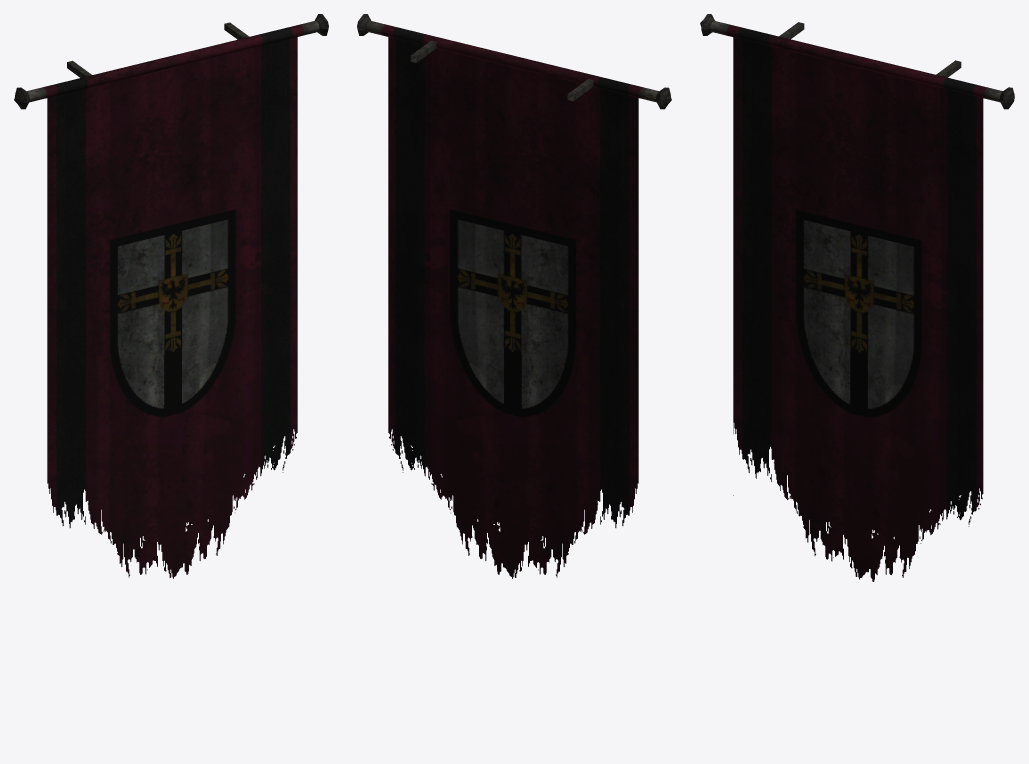
Rendered from banner_long01_broken.dae.
3 renders of one model, left to right at view 1: azimuth 30°, elevation 25°; view 2: azimuth 150°, elevation 25°; view 3: azimuth 330°, elevation 25°, orthographic.
Parts seen in each view (by area): view 1: polySurface19, polySurface24, polySurface20; view 2: polySurface19, polySurface24, polySurface20; view 3: polySurface19, polySurface24, polySurface20.
Boxes of the visible parts, x1,y1,x2,y2 form: polySurface19: (47,37,297,578); polySurface24: (47,40,297,577); polySurface20: (14,14,328,109); polySurface19: (388,37,638,578); polySurface24: (388,38,638,577); polySurface20: (357,14,671,109); polySurface19: (733,37,983,581); polySurface24: (733,38,983,578); polySurface20: (700,14,1014,109).
Size of the model in its own units: 2 by 4.07 by 0.3168.
